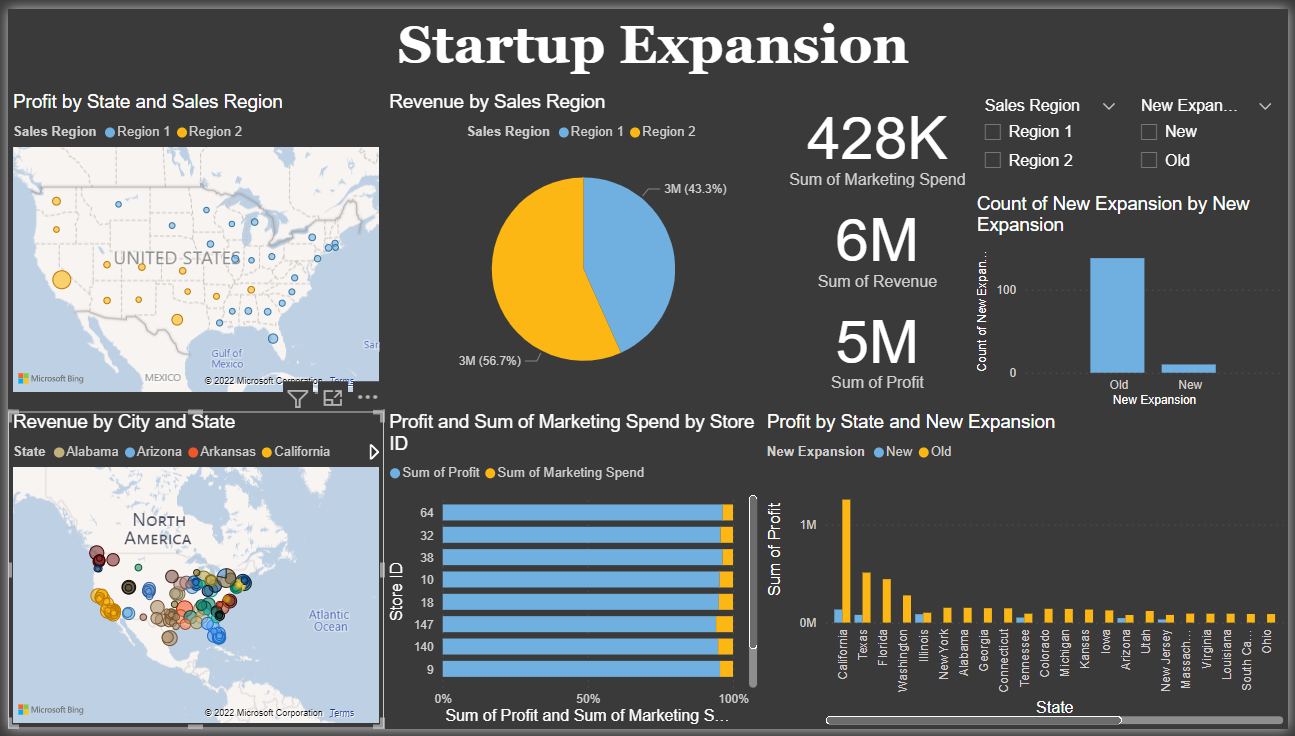

Layout of this report page (visuals, bound fields, positions):
{"tool":"powerbi","page":{"name":"Overview","canvas":[1280,720],"ordinal":0},"visuals":[{"type":"map","title":"Profit by State and Sales Region","fields":{"Category":["startup-expansion-modified.State"],"Size":["Sum(startup-expansion-modified.Profit)"],"Series":["startup-expansion-modified.Sales Region"]},"box":[0,82.5,376.2,306.2],"z":0},{"type":"textbox","box":[376.2,0,538.8,82.5],"z":1000},{"type":"map","title":"Revenue by City and State","fields":{"Category":["startup-expansion-modified.City"],"Size":["Sum(startup-expansion-modified.Revenue)"],"Series":["startup-expansion-modified.State"]},"box":[0,402.5,376.2,317.5],"z":2000},{"type":"columnChart","fields":{"Y":["CountNonNull(startup-expansion-modified.New Expansion)"],"Category":["startup-expansion-modified.New Expansion"]},"box":[963.8,183.8,316.2,218.8],"z":3000},{"type":"pieChart","title":"Revenue by Sales Region","fields":{"Y":["Sum(startup-expansion-modified.Revenue)"],"Series":["startup-expansion-modified.Sales Region"]},"box":[376.2,82.5,398.8,305],"z":4000},{"type":"card","fields":{"Values":["Sum(startup-expansion-modified.Profit)"]},"box":[775,286.2,188.8,101.2],"z":5000},{"type":"card","fields":{"Values":["Sum(startup-expansion-modified.Marketing Spend)"]},"box":[775,82.5,188.8,101.2],"z":6000},{"type":"card","fields":{"Values":["Sum(startup-expansion-modified.Revenue)"]},"box":[775,183.8,188.8,102.5],"z":6001},{"type":"clusteredColumnChart","title":"Profit by State and New Expansion","fields":{"Y":["Sum(startup-expansion-modified.Profit)"],"Category":["startup-expansion-modified.State"],"Series":["startup-expansion-modified.New Expansion"]},"box":[753.8,402.5,526.2,317.5],"z":6002},{"type":"slicer","fields":{"Values":["startup-expansion-modified.Sales Region"]},"box":[963.8,82.5,156.2,101.2],"z":6003},{"type":"slicer","fields":{"Values":["startup-expansion-modified.New Expansion"]},"box":[1120,82.5,156.2,101.2],"z":6004},{"type":"hundredPercentStackedBarChart","title":"Profit and Sum of Marketing Spend by Store ID","fields":{"Category":["startup-expansion-modified.Store ID"],"Y":["Sum(startup-expansion-modified.Profit)","Sum(startup-expansion-modified.Marketing Spend)"]},"box":[376.2,402.5,377.5,317.5],"z":6005}]}

Visuals, with their boxes in screenshot pixels (x1, y1, x2, y2), scaled from the page's 1280x720 canvas onto the 1295x736 screenshot:
"Profit by State and Sales Region" map: BBox(0, 84, 381, 397)
textbox: BBox(381, 0, 926, 84)
"Revenue by City and State" map: BBox(0, 411, 381, 735)
columnChart - CountNonNull(startup-expansion-modified.New Expansion) x startup-expansion-modified.New Expansion: BBox(975, 188, 1294, 412)
"Revenue by Sales Region" pieChart: BBox(381, 84, 784, 396)
card - Sum(startup-expansion-modified.Profit): BBox(784, 293, 975, 396)
card - Sum(startup-expansion-modified.Marketing Spend): BBox(784, 84, 975, 188)
card - Sum(startup-expansion-modified.Revenue): BBox(784, 188, 975, 293)
"Profit by State and New Expansion" clusteredColumnChart: BBox(763, 411, 1294, 735)
slicer - startup-expansion-modified.Sales Region: BBox(975, 84, 1133, 188)
slicer - startup-expansion-modified.New Expansion: BBox(1133, 84, 1291, 188)
"Profit and Sum of Marketing Spend by Store ID" hundredPercentStackedBarChart: BBox(381, 411, 763, 735)
